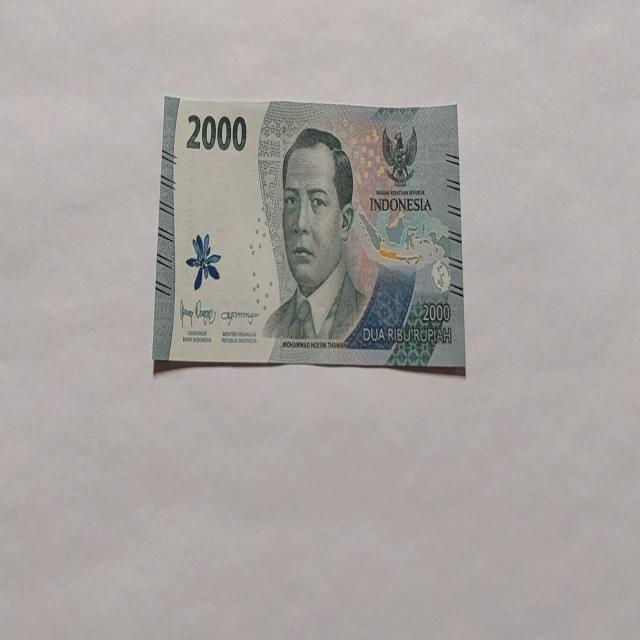dua ribu rupiah: (152, 94, 466, 374), (261, 126, 369, 343)
